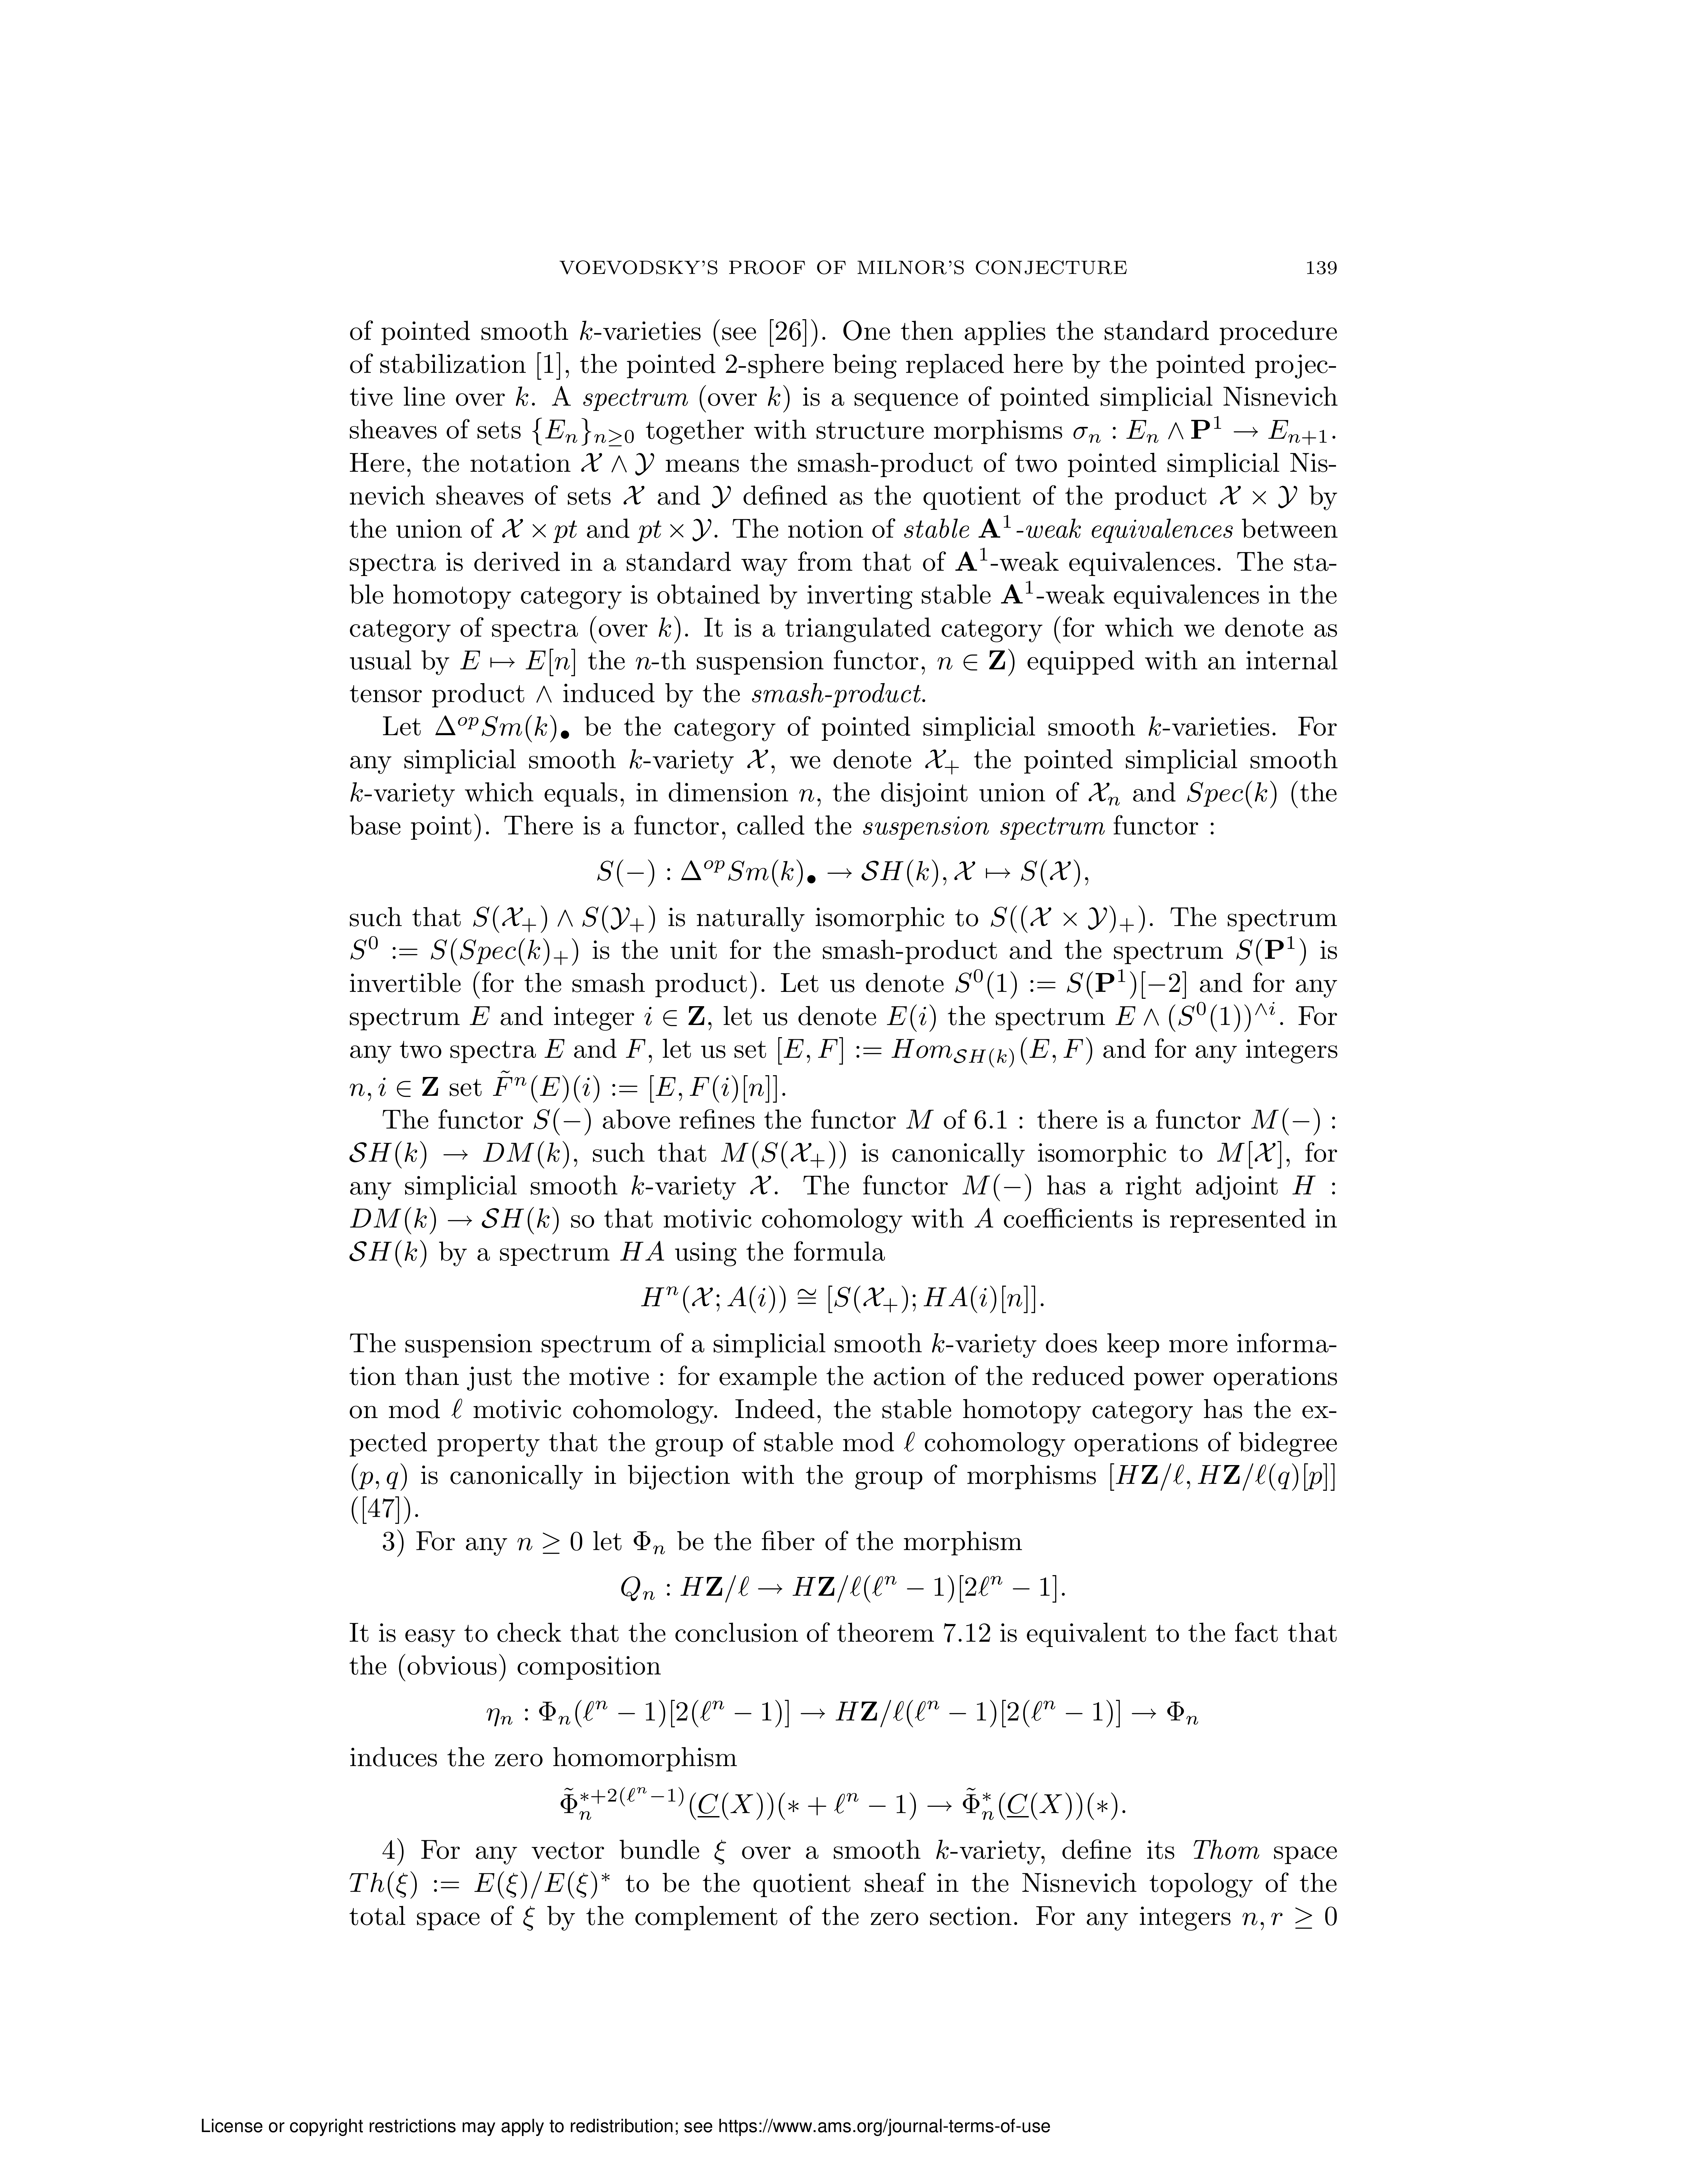expr: (280, 1493, 934, 1578), (151, 663, 835, 725), (579, 798, 996, 865), (151, 796, 539, 867), (152, 948, 445, 1018), (151, 1326, 420, 1393), (840, 721, 1100, 789), (225, 1608, 470, 1679), (214, 1252, 473, 1314), (438, 1030, 700, 1090), (230, 1216, 647, 1244), (803, 557, 1210, 585), (484, 1181, 877, 1209), (1028, 876, 1210, 936), (505, 521, 888, 550), (567, 379, 920, 408), (147, 379, 486, 408), (151, 1103, 287, 1170), (567, 310, 907, 337), (151, 1723, 431, 1755), (149, 1035, 276, 1097), (861, 1686, 1132, 1714), (381, 1688, 624, 1716), (581, 885, 698, 936), (149, 308, 356, 337), (801, 486, 996, 514), (948, 1181, 1150, 1207), (652, 1688, 829, 1714), (746, 1353, 918, 1379), (1056, 821, 1205, 849), (957, 628, 1115, 654), (966, 450, 1109, 479), (1097, 1048, 1210, 1078), (806, 899, 911, 927), (523, 975, 627, 1003), (810, 1271, 906, 1301), (959, 1516, 1063, 1542), (820, 628, 930, 652), (1131, 415, 1209, 443), (523, 450, 604, 477), (907, 1636, 991, 1661), (810, 1218, 884, 1243), (230, 899, 314, 920), (415, 1129, 480, 1156), (303, 1404, 381, 1425), (1154, 971, 1209, 1002), (592, 557, 654, 583), (645, 753, 737, 771), (209, 592, 285, 613), (606, 415, 663, 443), (147, 450, 204, 479), (386, 486, 443, 514), (943, 688, 1012, 709), (496, 1406, 565, 1427), (991, 521, 1046, 548), (1049, 379, 1095, 408), (629, 628, 675, 656), (585, 280, 670, 294), (1175, 310, 1201, 337), (308, 521, 335, 548), (328, 1688, 354, 1712), (282, 486, 312, 507), (282, 415, 310, 436), (696, 486, 725, 507), (645, 344, 672, 365), (549, 1351, 574, 1372), (1148, 1127, 1170, 1149), (376, 275, 395, 294), (211, 752, 230, 771), (526, 351, 546, 365), (356, 1188, 376, 1202), (1115, 1223, 1132, 1237), (913, 1058, 923, 1073), (1047, 1282, 1058, 1296)
